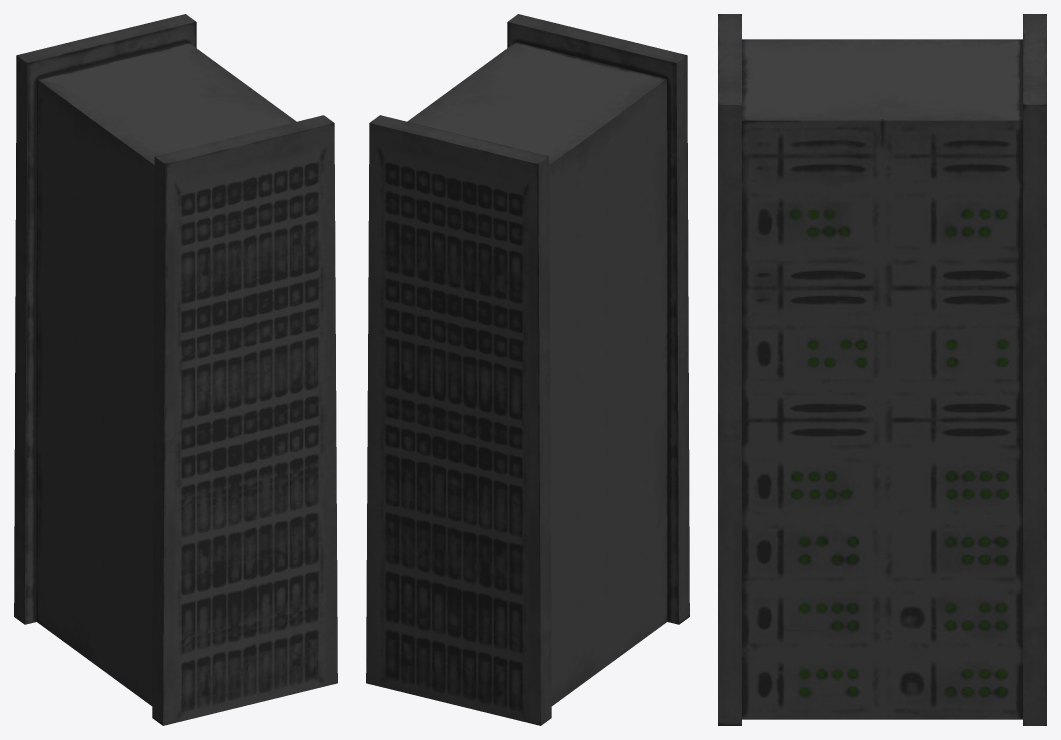
The model's file is ComputerRack01.glb.
The picture shows the model from 3 angles, left to right: view 1: azimuth 30°, elevation 25°; view 2: azimuth 150°, elevation 25°; view 3: azimuth 270°, elevation 25°; orthographic projection. The views are drawn at different scales.
Parts seen in each view (by area): view 1: ComputerRack_low; view 2: ComputerRack_low; view 3: ComputerRack_low.
Boxes of the visible parts, x1,y1,x2,y2 form: ComputerRack_low: [14, 14, 337, 725]; ComputerRack_low: [366, 14, 689, 725]; ComputerRack_low: [718, 14, 1046, 725].
Size of the model in its own units: 1.06 by 3.24 by 1.56.
1 material, 1 textured.
